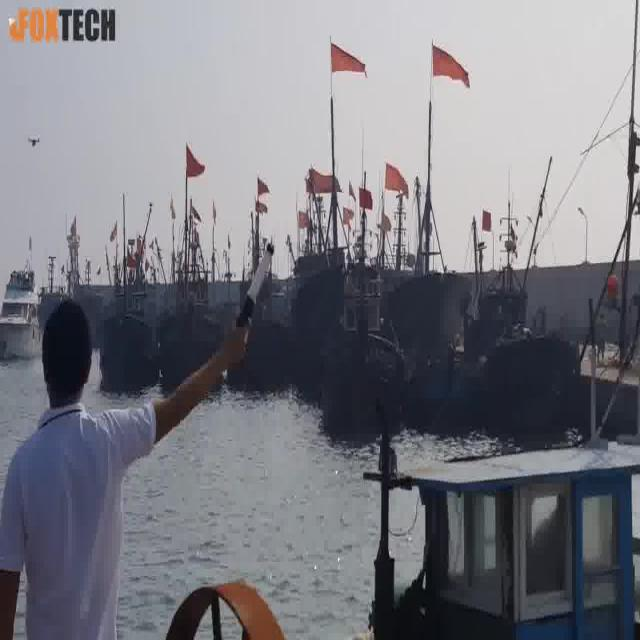drones: (22, 125, 45, 162)
